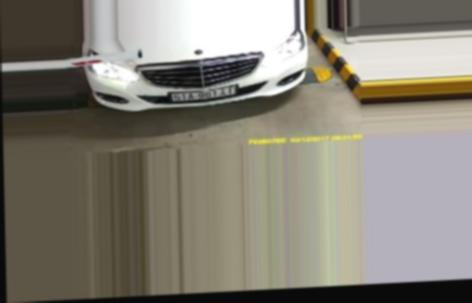License_Plate: (171, 88, 242, 101)
